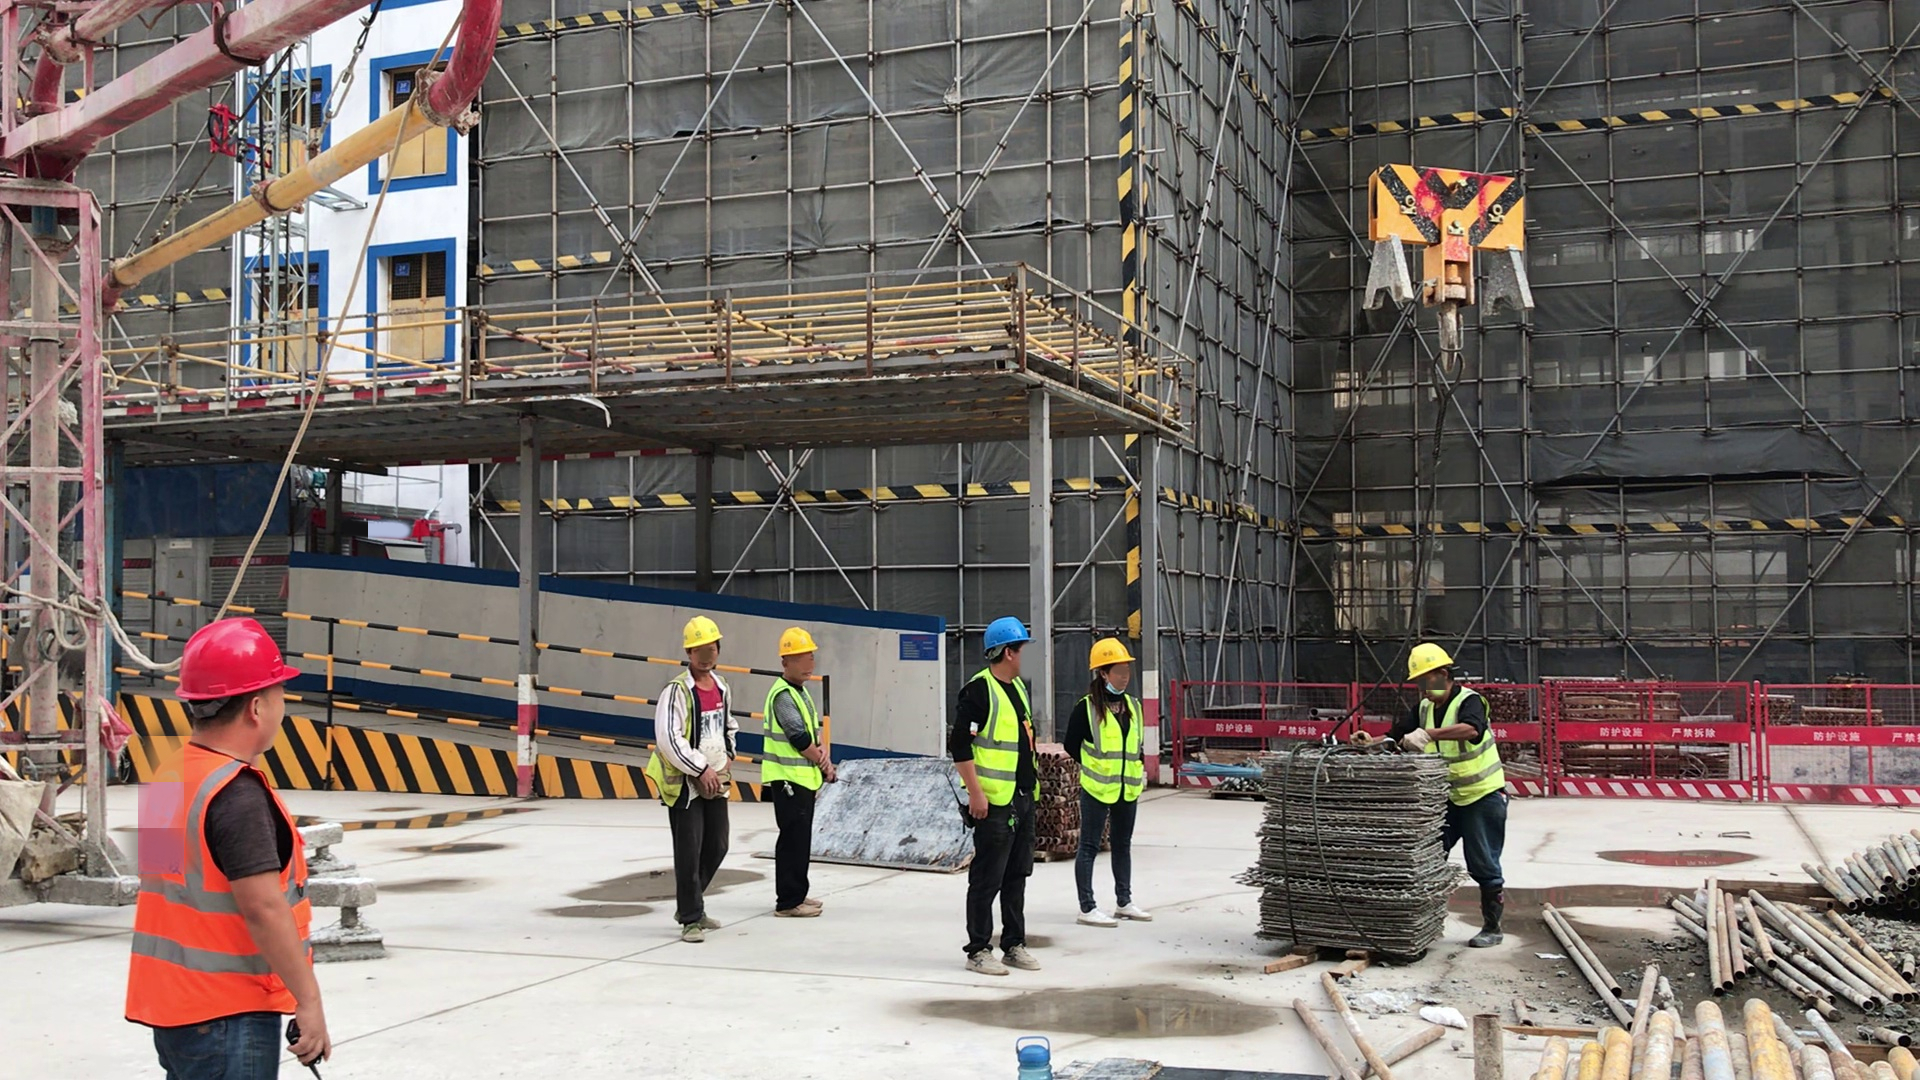helmet: (172, 611, 302, 702), (978, 617, 1038, 660), (1403, 641, 1460, 682), (769, 622, 817, 666), (673, 616, 726, 650), (1087, 636, 1133, 671)
person: (129, 615, 339, 1080), (1345, 637, 1509, 954), (949, 614, 1049, 976), (642, 610, 729, 944), (1066, 636, 1154, 929), (756, 621, 833, 920)
vest: (122, 748, 315, 1036), (1407, 684, 1511, 808), (956, 665, 1027, 813), (753, 674, 829, 794), (1075, 691, 1147, 808)
